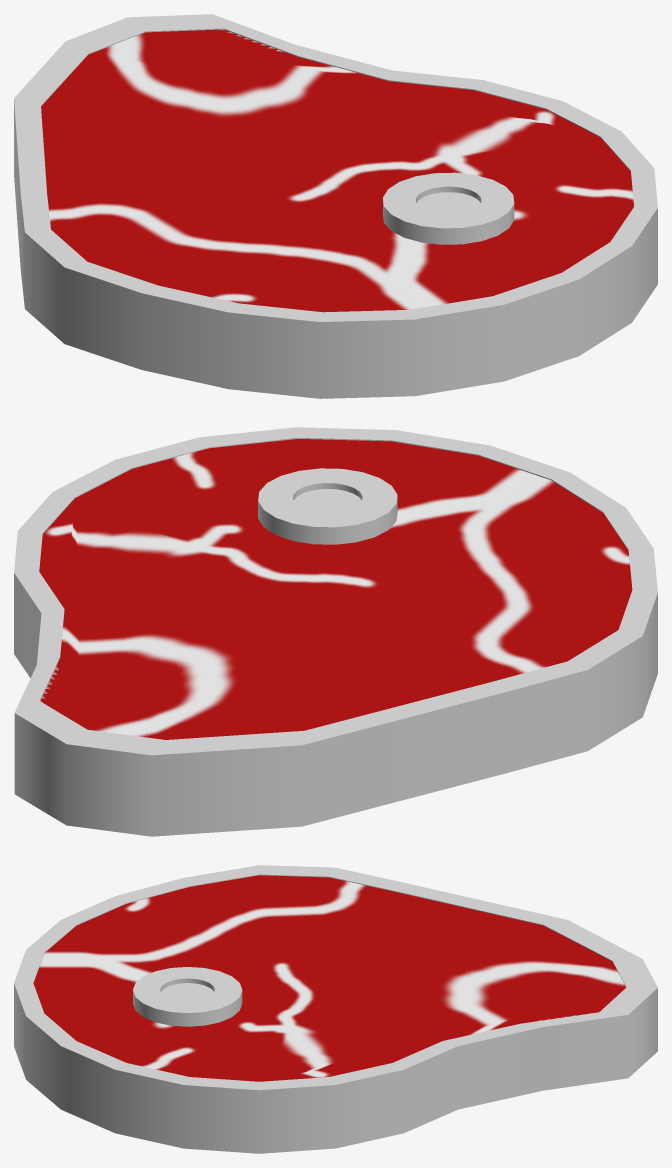
Rendered from Fleisch.fbx.
3 renders of one model, top to bottom at view 1: azimuth 30°, elevation 25°; view 2: azimuth 150°, elevation 25°; view 3: azimuth 270°, elevation 25°, orthographic. The views are drawn at different scales.
Visible parts, largest first — view 1: pCylinder1, pCylinder6, pPipe1, pCylinder2; view 2: pCylinder1, pCylinder6, pPipe1, pCylinder2; view 3: pCylinder1, pCylinder6, pPipe1, pCylinder2.
Part boxes in pixels (<box>): pCylinder1: <box>41,29,633,312</box>; pCylinder6: <box>14,14,657,398</box>; pPipe1: <box>383,172,514,244</box>; pCylinder2: <box>416,192,480,214</box>; pCylinder1: <box>39,439,632,739</box>; pCylinder6: <box>14,427,657,836</box>; pPipe1: <box>258,468,397,544</box>; pCylinder2: <box>294,489,361,512</box>; pCylinder1: <box>33,875,625,1081</box>; pCylinder6: <box>14,865,657,1153</box>; pPipe1: <box>133,967,242,1026</box>; pCylinder2: <box>161,983,213,1001</box>.
Size of the model in its own units: 2.27 by 0.3748 by 2.74.
2 materials, 1 textured.
